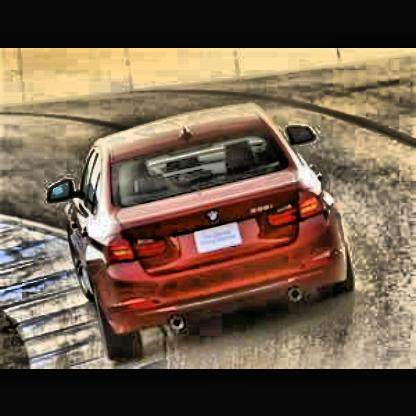BMW 3 Series Sedan 2012: (46, 102, 358, 364)
